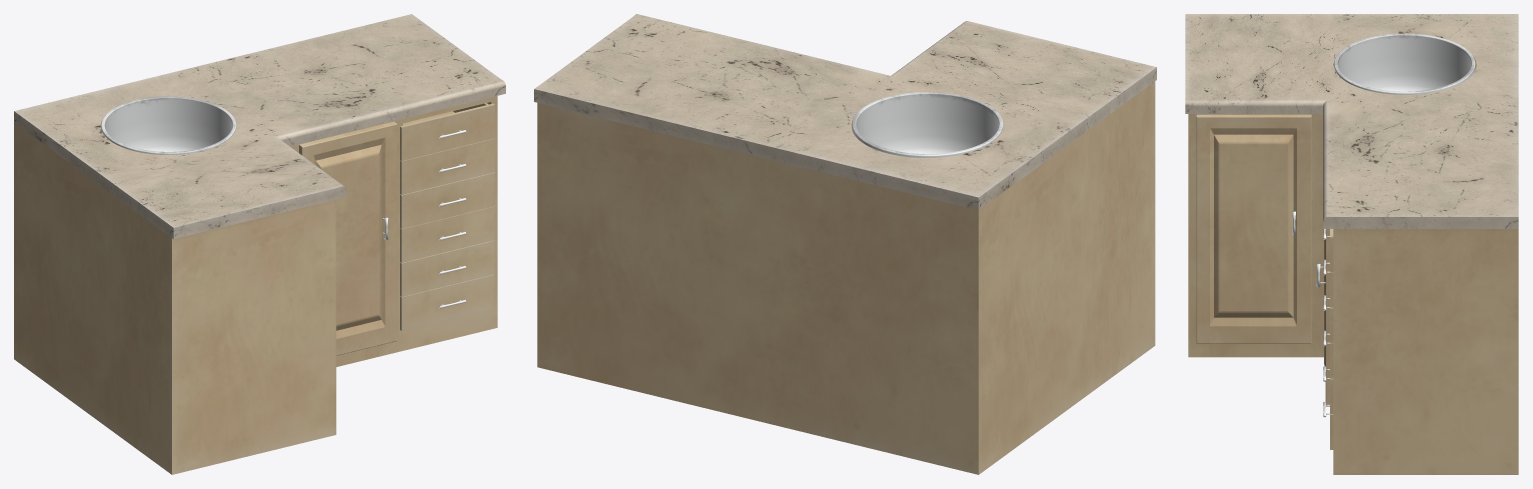
The model's file is Kitchen_Sink.fbx.
The picture shows the model from 3 angles, left to right: view 1: azimuth 30°, elevation 25°; view 2: azimuth 150°, elevation 25°; view 3: azimuth 270°, elevation 25°; orthographic projection. The views are drawn at different scales.
Parts seen in each view (by area): view 1: meshId2_name, meshId1_name, d_1_mesh.002, K1, Куб.006, Куб.007, Куб.004, Куб.008, Куб.005, Куб.003; view 2: meshId2_name, meshId1_name, K1; view 3: meshId2_name, meshId1_name, d_1_mesh, K1, d_1_mesh.002.
Boxes of the visible parts, x1,y1,x2,y2 form: meshId2_name: (14, 96, 497, 474); meshId1_name: (14, 14, 505, 239); d_1_mesh.002: (299, 121, 397, 355); K1: (101, 96, 236, 154); Куб.006: (400, 103, 494, 160); Куб.007: (400, 240, 494, 296); Куб.004: (400, 172, 494, 228); Куб.008: (400, 274, 494, 330); Куб.005: (400, 206, 494, 262); Куб.003: (400, 138, 494, 194); meshId2_name: (537, 81, 1155, 474); meshId1_name: (534, 14, 1156, 210); K1: (852, 92, 1003, 157); meshId2_name: (1188, 55, 1518, 474); meshId1_name: (1185, 14, 1518, 228); d_1_mesh: (1196, 114, 1311, 343); K1: (1334, 33, 1475, 94); d_1_mesh.002: (1324, 229, 1329, 406).
Size of the model in its own units: 178 by 107 by 123.
5 materials, 3 textured.
